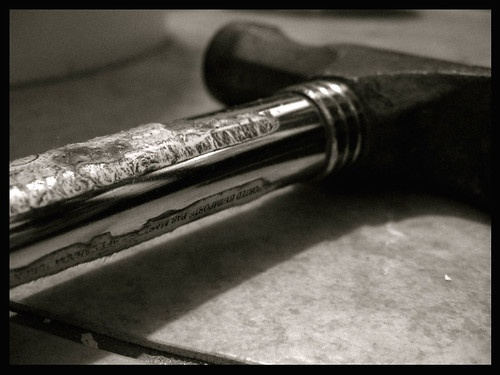hammer: (8, 18, 493, 307)
